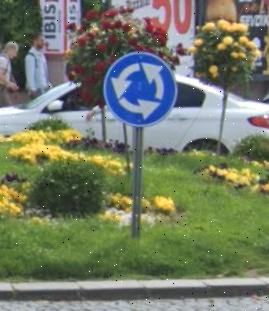crossroads: (107, 53, 179, 126)
